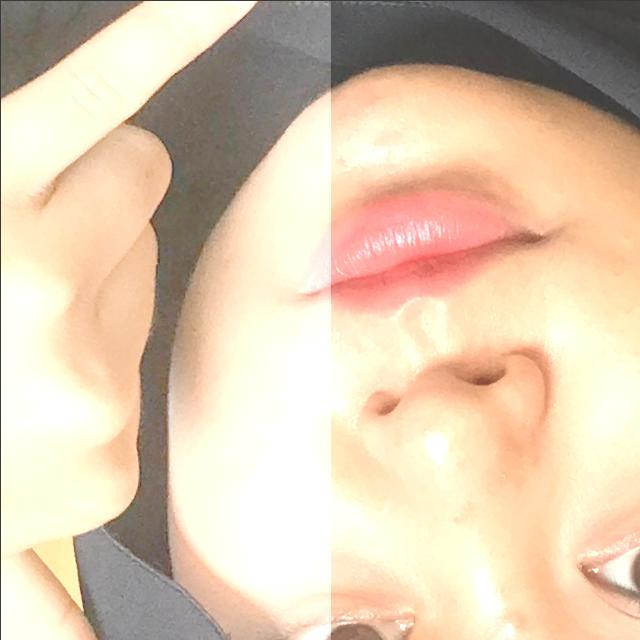telpon: (0, 0, 330, 640)
